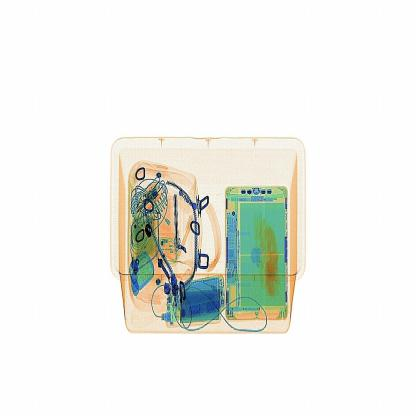knife: (173, 193, 184, 257)
